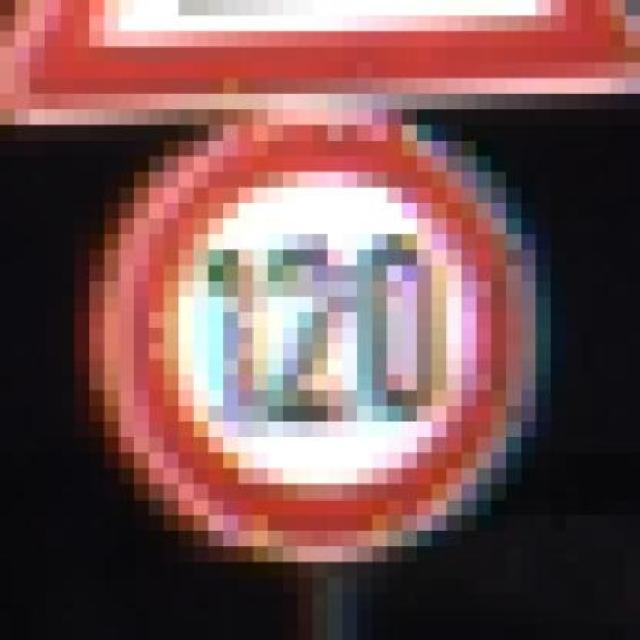forb_speed_over_120: (118, 118, 529, 556)
